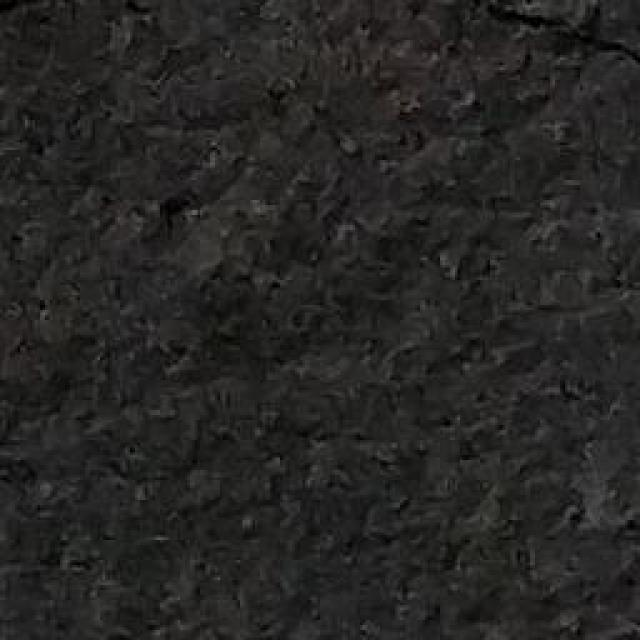Diagonal: (451, 0, 640, 77)
